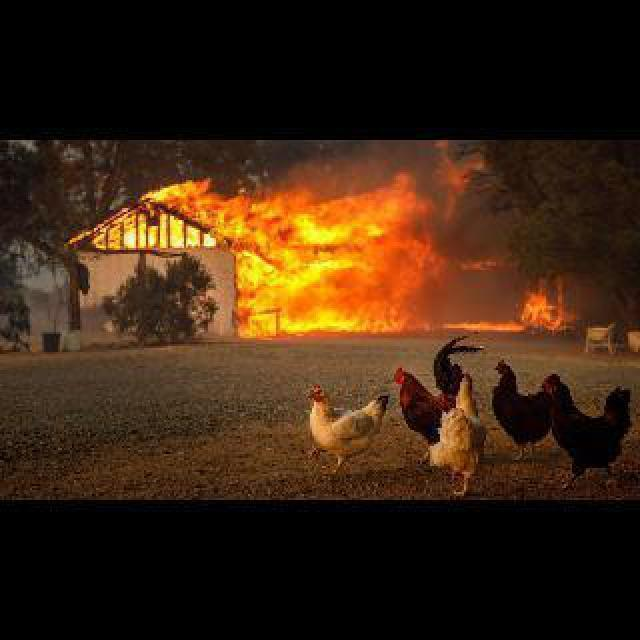fire: (164, 181, 477, 338)
